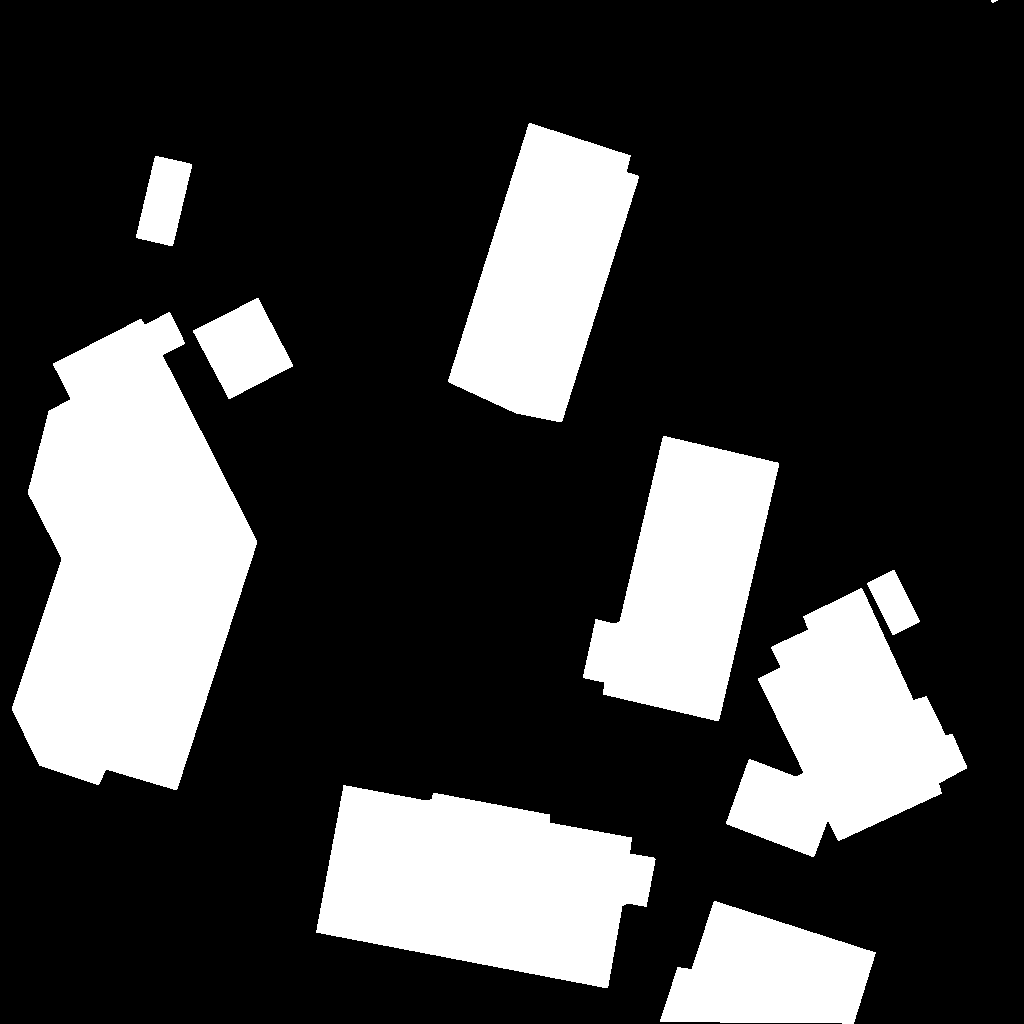building: (12, 312, 258, 791), (316, 785, 656, 989), (726, 588, 968, 858), (448, 123, 640, 423), (583, 436, 780, 722), (660, 901, 877, 1024), (193, 298, 294, 400), (136, 156, 193, 247), (867, 570, 921, 636), (991, 0, 999, 4), (1022, 72, 1024, 76)
